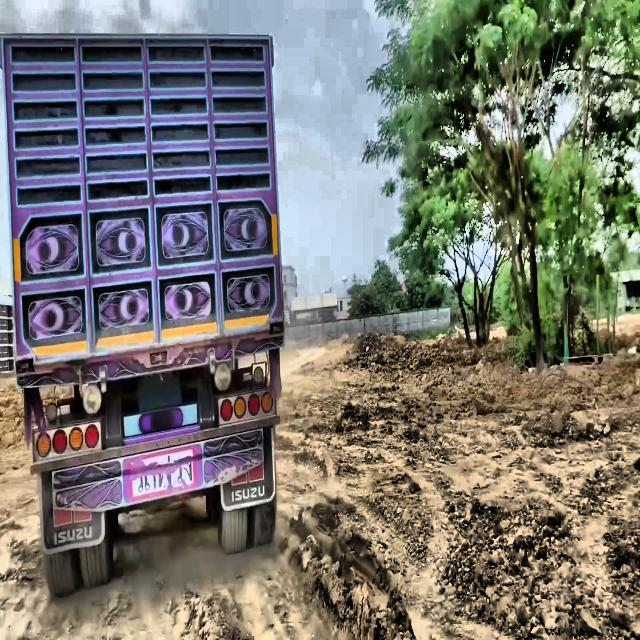trailer: (7, 30, 285, 598)
